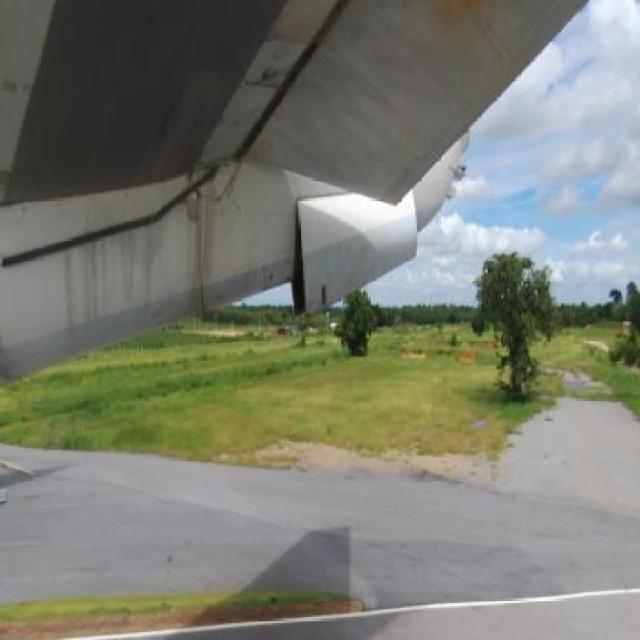Rust: (51, 217, 182, 341), (403, 1, 542, 99), (184, 176, 233, 318)
